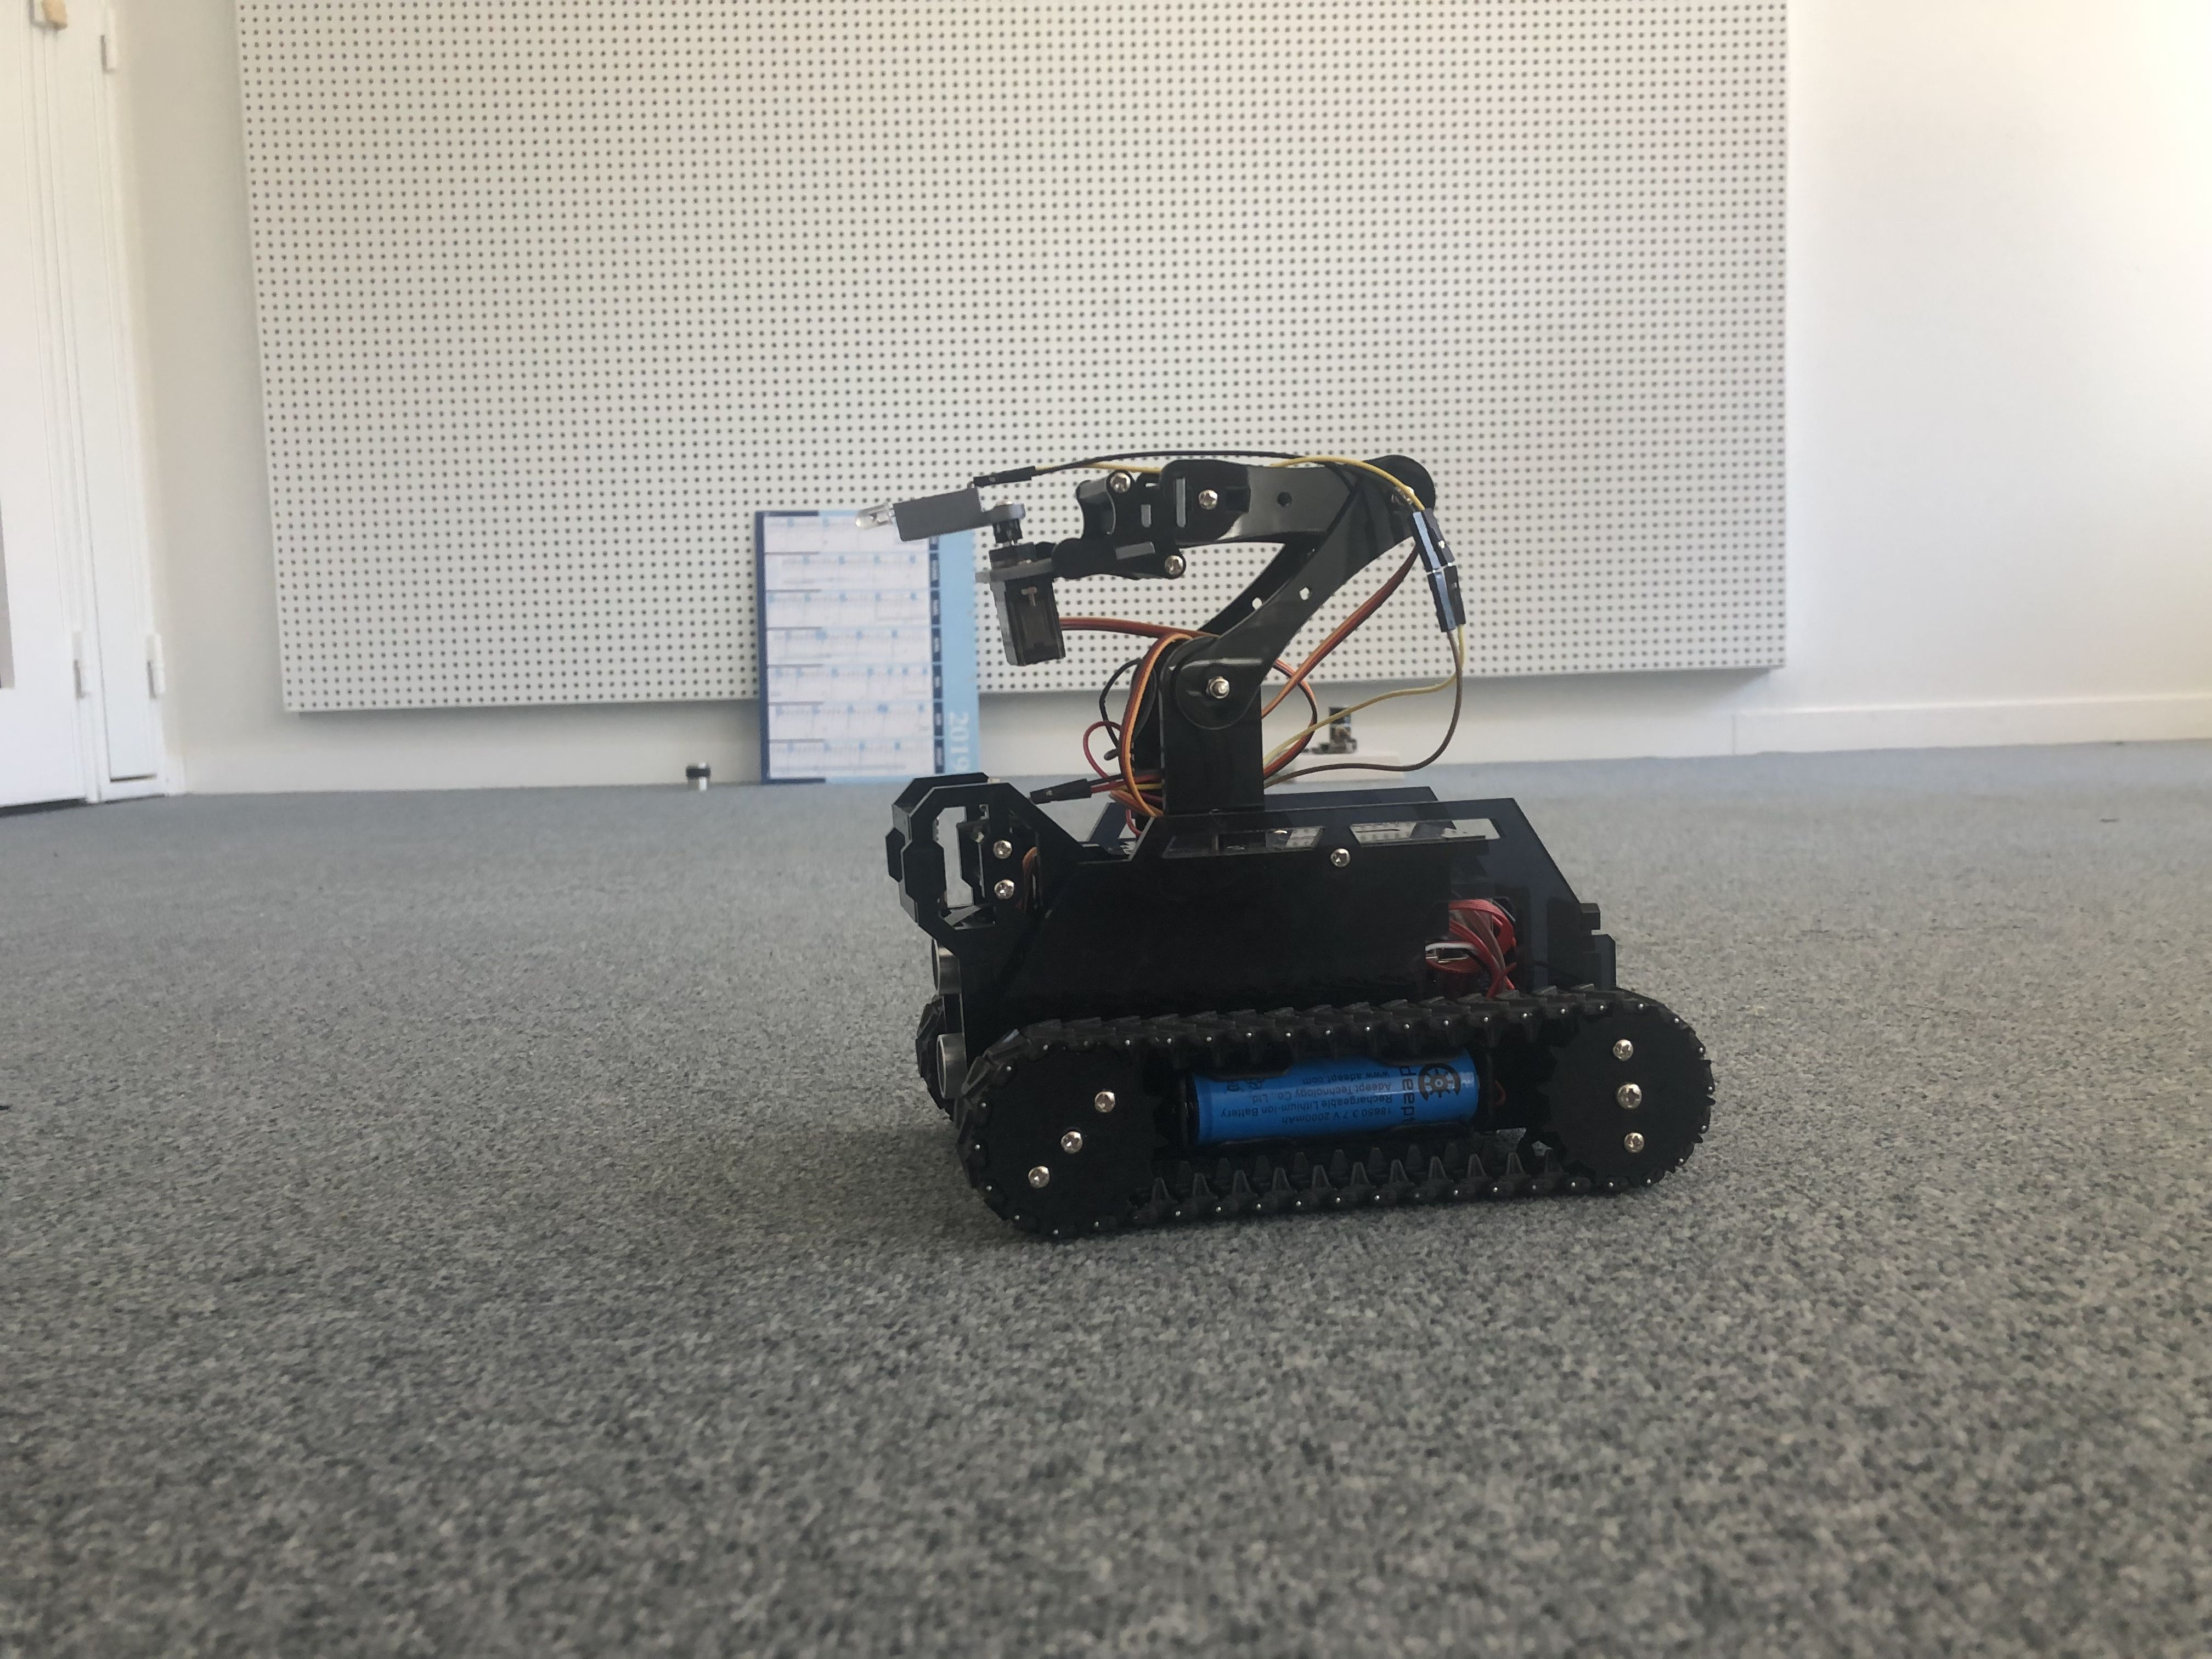rasptank: (850, 430, 1723, 1211)
